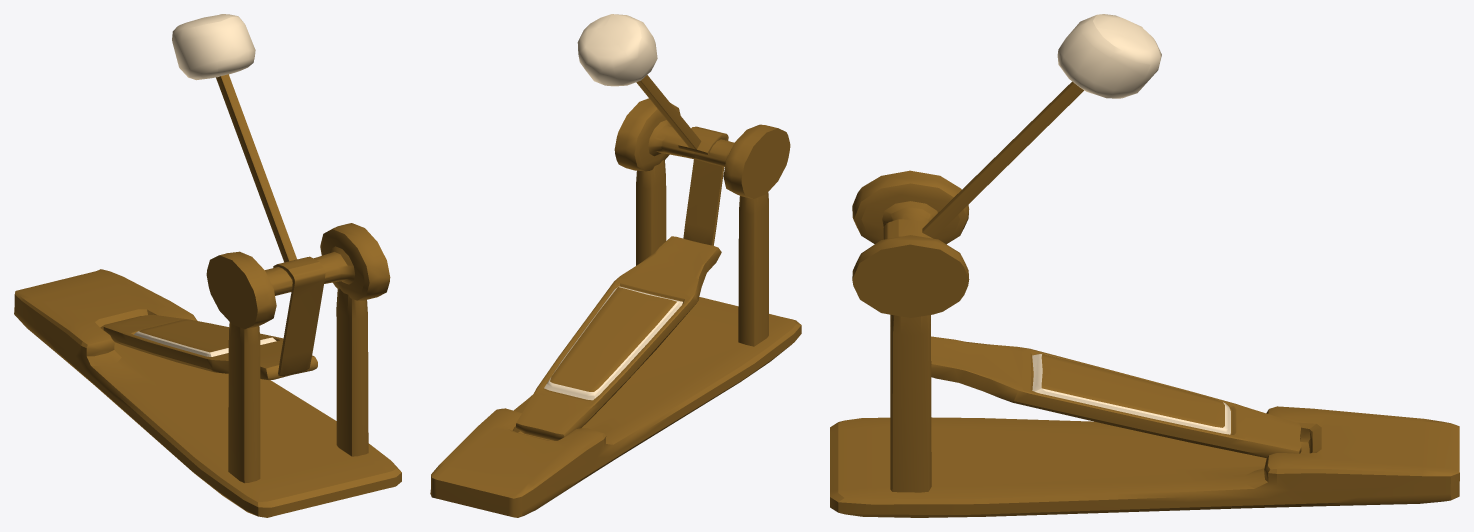
Rendered from SM_DrumKit_V1_pedal_bass.FBX.
The picture shows the model from 3 angles, left to right: view 1: azimuth 30°, elevation 25°; view 2: azimuth 150°, elevation 25°; view 3: azimuth 270°, elevation 25°; orthographic projection. The views are drawn at different scales.
Parts seen in each view (by area): view 1: SM_DrumKit_V1_pedal_bass; view 2: SM_DrumKit_V1_pedal_bass; view 3: SM_DrumKit_V1_pedal_bass.
Boxes of the visible parts, left/top/right/bottom form: SM_DrumKit_V1_pedal_bass: left=14, top=14, right=401, bottom=517; SM_DrumKit_V1_pedal_bass: left=430, top=14, right=801, bottom=517; SM_DrumKit_V1_pedal_bass: left=830, top=14, right=1459, bottom=517.
Size of the model in its own units: 13.87 by 43.46 by 34.88.
